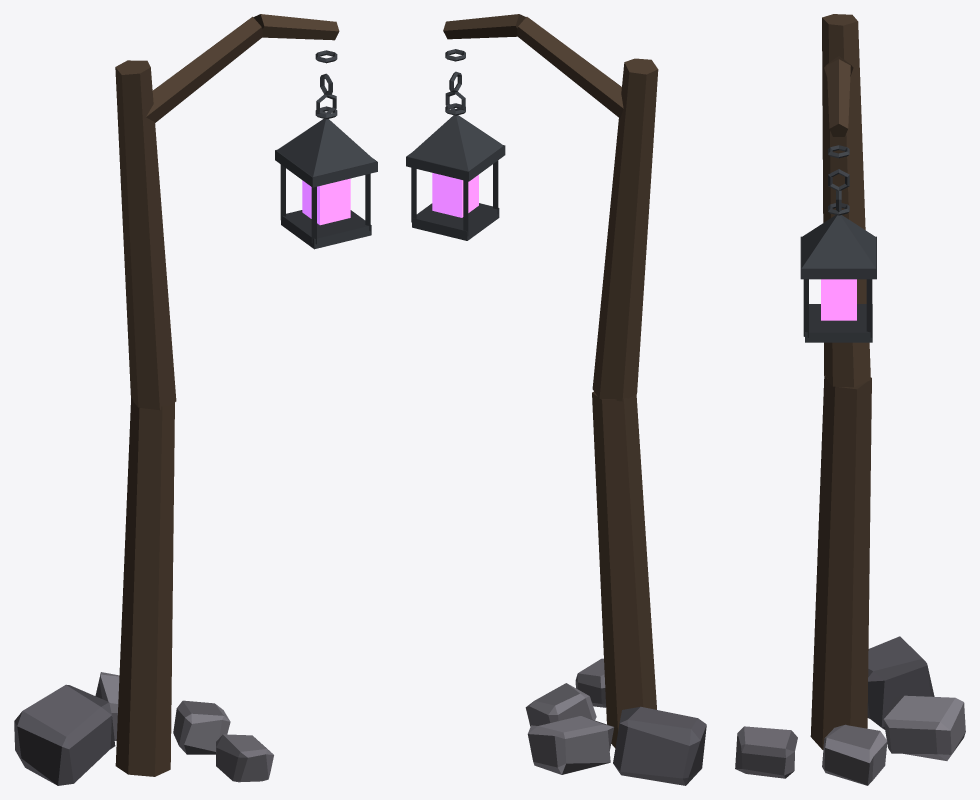
The model's file is ghost_lantern.glb.
3 renders of one model, left to right at view 1: azimuth 30°, elevation 25°; view 2: azimuth 150°, elevation 25°; view 3: azimuth 270°, elevation 25°, orthographic. The views are drawn at different scales.
Visible parts, largest first — view 1: GhostLantern; view 2: GhostLantern; view 3: GhostLantern.
Boxes of the visible parts, left/top/right/bottom form: GhostLantern: left=14, top=14, right=377, bottom=785; GhostLantern: left=406, top=14, right=706, bottom=785; GhostLantern: left=735, top=14, right=965, bottom=785.
Size of the model in its own units: 0.8197 by 1.82 by 0.5121.
